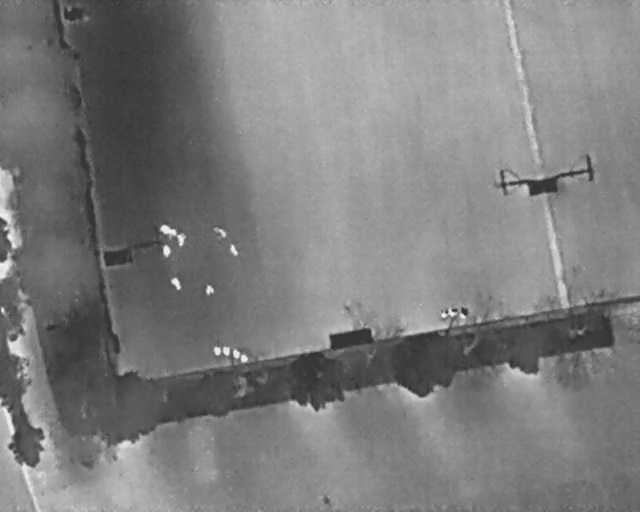Person: (171, 277, 182, 291), (177, 233, 187, 247), (229, 243, 239, 257), (214, 226, 226, 237), (162, 243, 171, 257), (169, 228, 177, 241), (160, 224, 170, 234), (206, 285, 214, 295)
